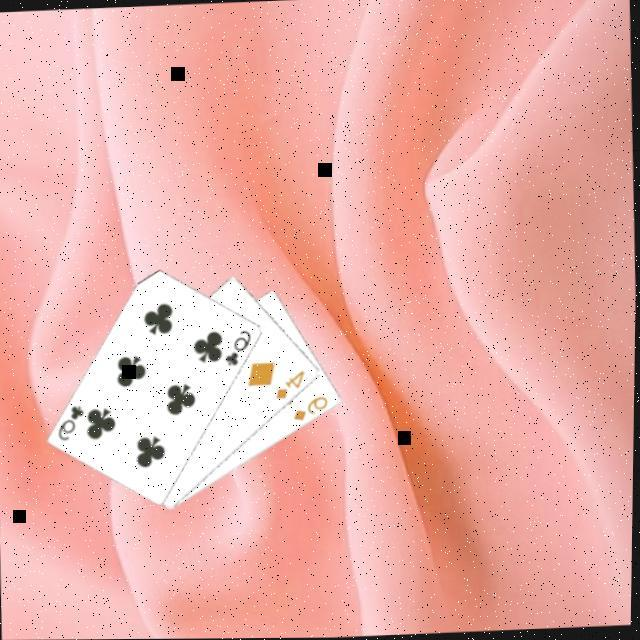4D: (272, 366, 308, 400)
6C: (221, 324, 255, 367), (55, 399, 88, 441)
9D: (290, 391, 332, 421)
